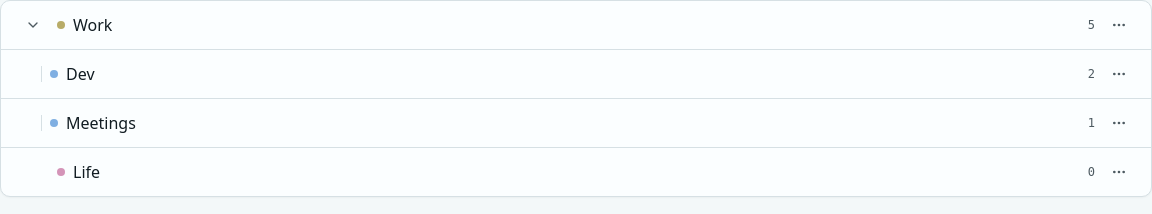
Scenario: HierarchicalListCard 行操作 ⋯ 菜单 › tags（无归档回调）菜单不含归档项
Check: the text "Work" is shown, box left=73, top=14, right=112, bottom=36
Click the button named "More actions" in the row of "Work": (1119, 25) left=1103, top=9, right=1135, bottom=41
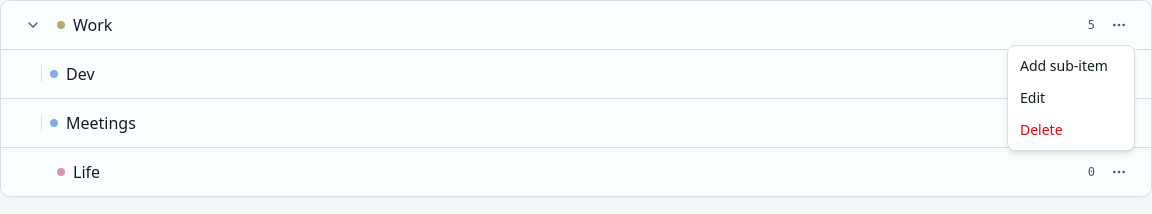
Check: the menu items read "Add sub-item", "Edit", "Delete", in this order, box left=1020, top=56, right=1108, bottom=75; left=1020, top=88, right=1045, bottom=107; left=1020, top=120, right=1063, bottom=139
